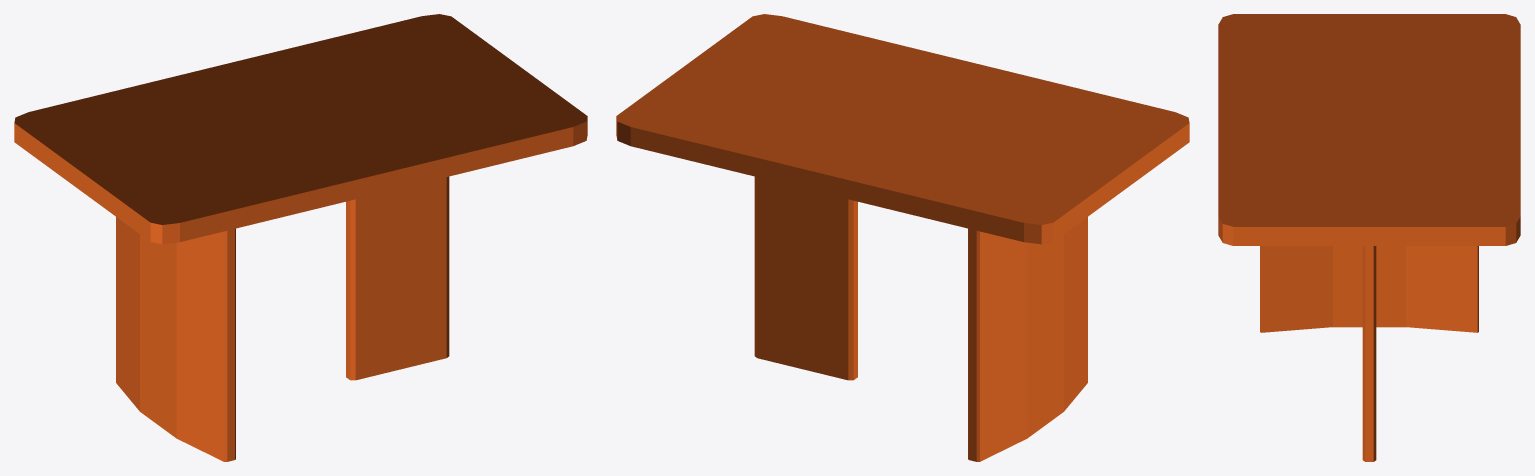
File: Dining Table 2.fbx
The picture shows the model from 3 angles, left to right: view 1: azimuth 30°, elevation 25°; view 2: azimuth 150°, elevation 25°; view 3: azimuth 270°, elevation 25°; orthographic projection.
Parts seen in each view (by area): view 1: Node 0; view 2: Node 0; view 3: Node 0.
Part boxes in pixels (bbox=[...]): Node 0: bbox=[14, 14, 587, 461]; Node 0: bbox=[616, 14, 1189, 461]; Node 0: bbox=[1218, 14, 1520, 461].
Bounding box in the file's own units: 0.9 × 0.8884 × 1.5.
